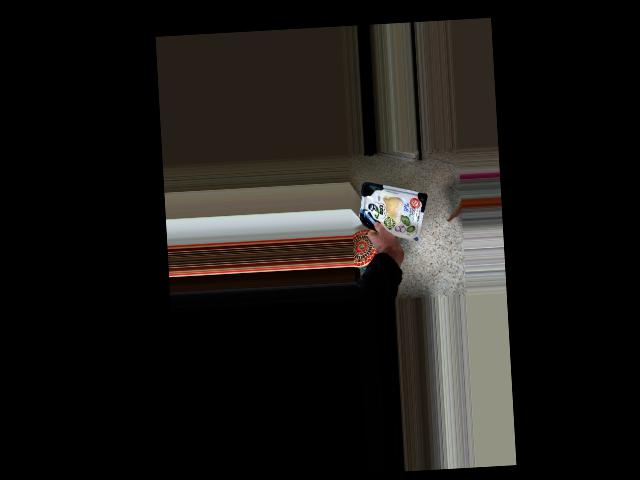cheese: (356, 178, 426, 243)
